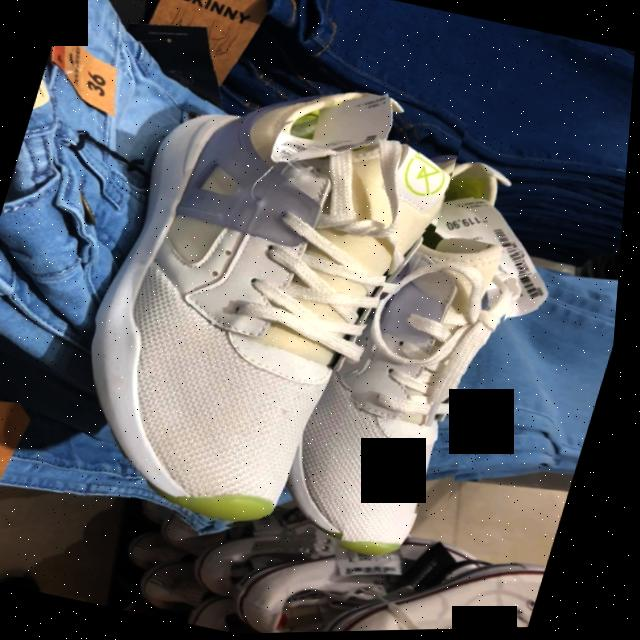shoe: (119, 95, 450, 527), (354, 247, 522, 506)
